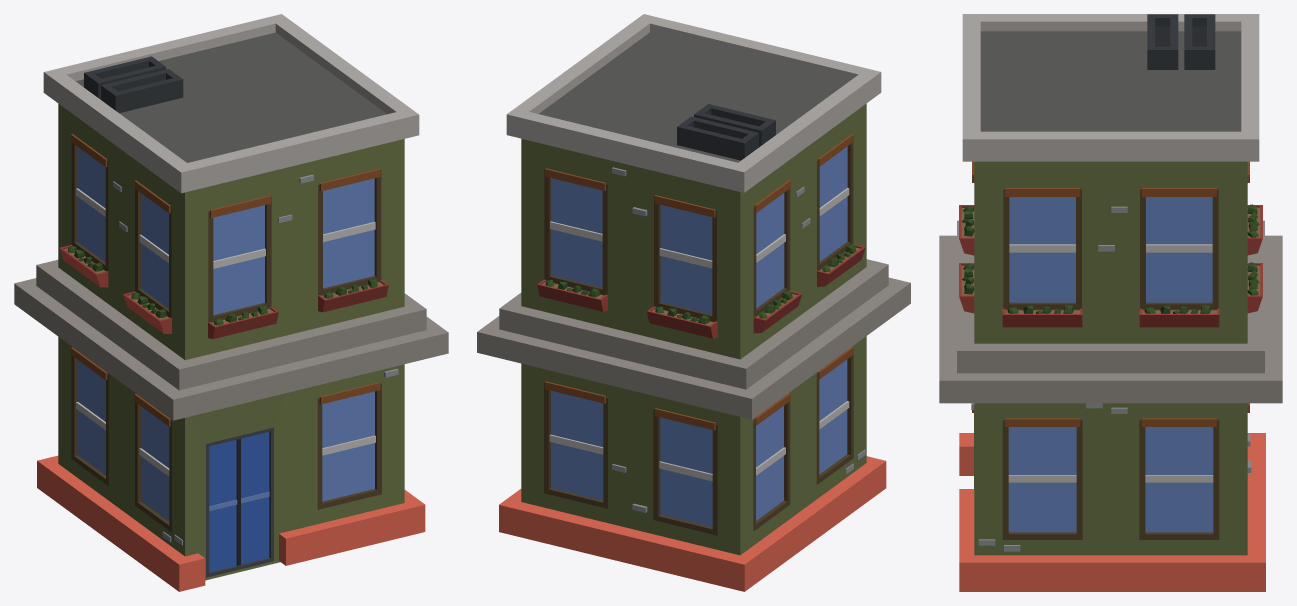
The model's file is Building_4.fbx.
3 renders of one model, left to right at view 1: azimuth 30°, elevation 25°; view 2: azimuth 150°, elevation 25°; view 3: azimuth 270°, elevation 25°, orthographic. The views are drawn at different scales.
Parts seen in each view (by area): view 1: Building_4; view 2: Building_4; view 3: Building_4.
Part boxes in pixels (x1,y1,x2,y2): Building_4: [14, 14, 448, 591]; Building_4: [477, 14, 910, 591]; Building_4: [939, 14, 1282, 591].
Size of the model in its own units: 610 by 906 by 610.
